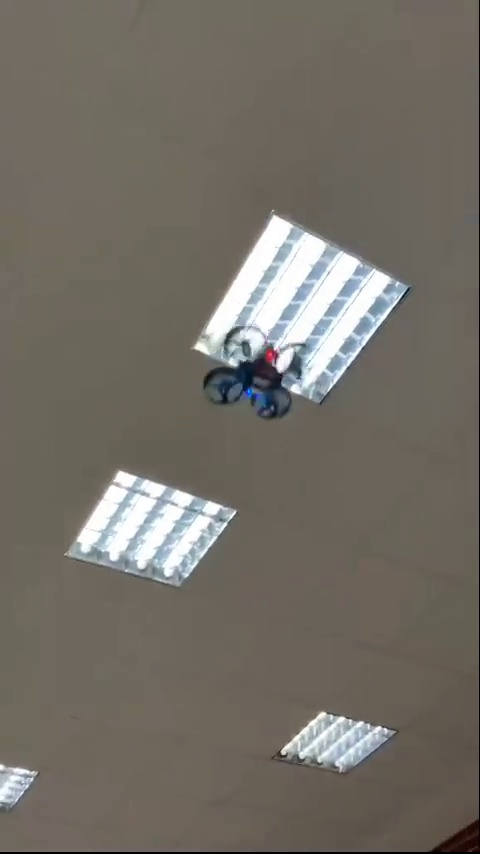drone: (206, 332, 319, 423)
